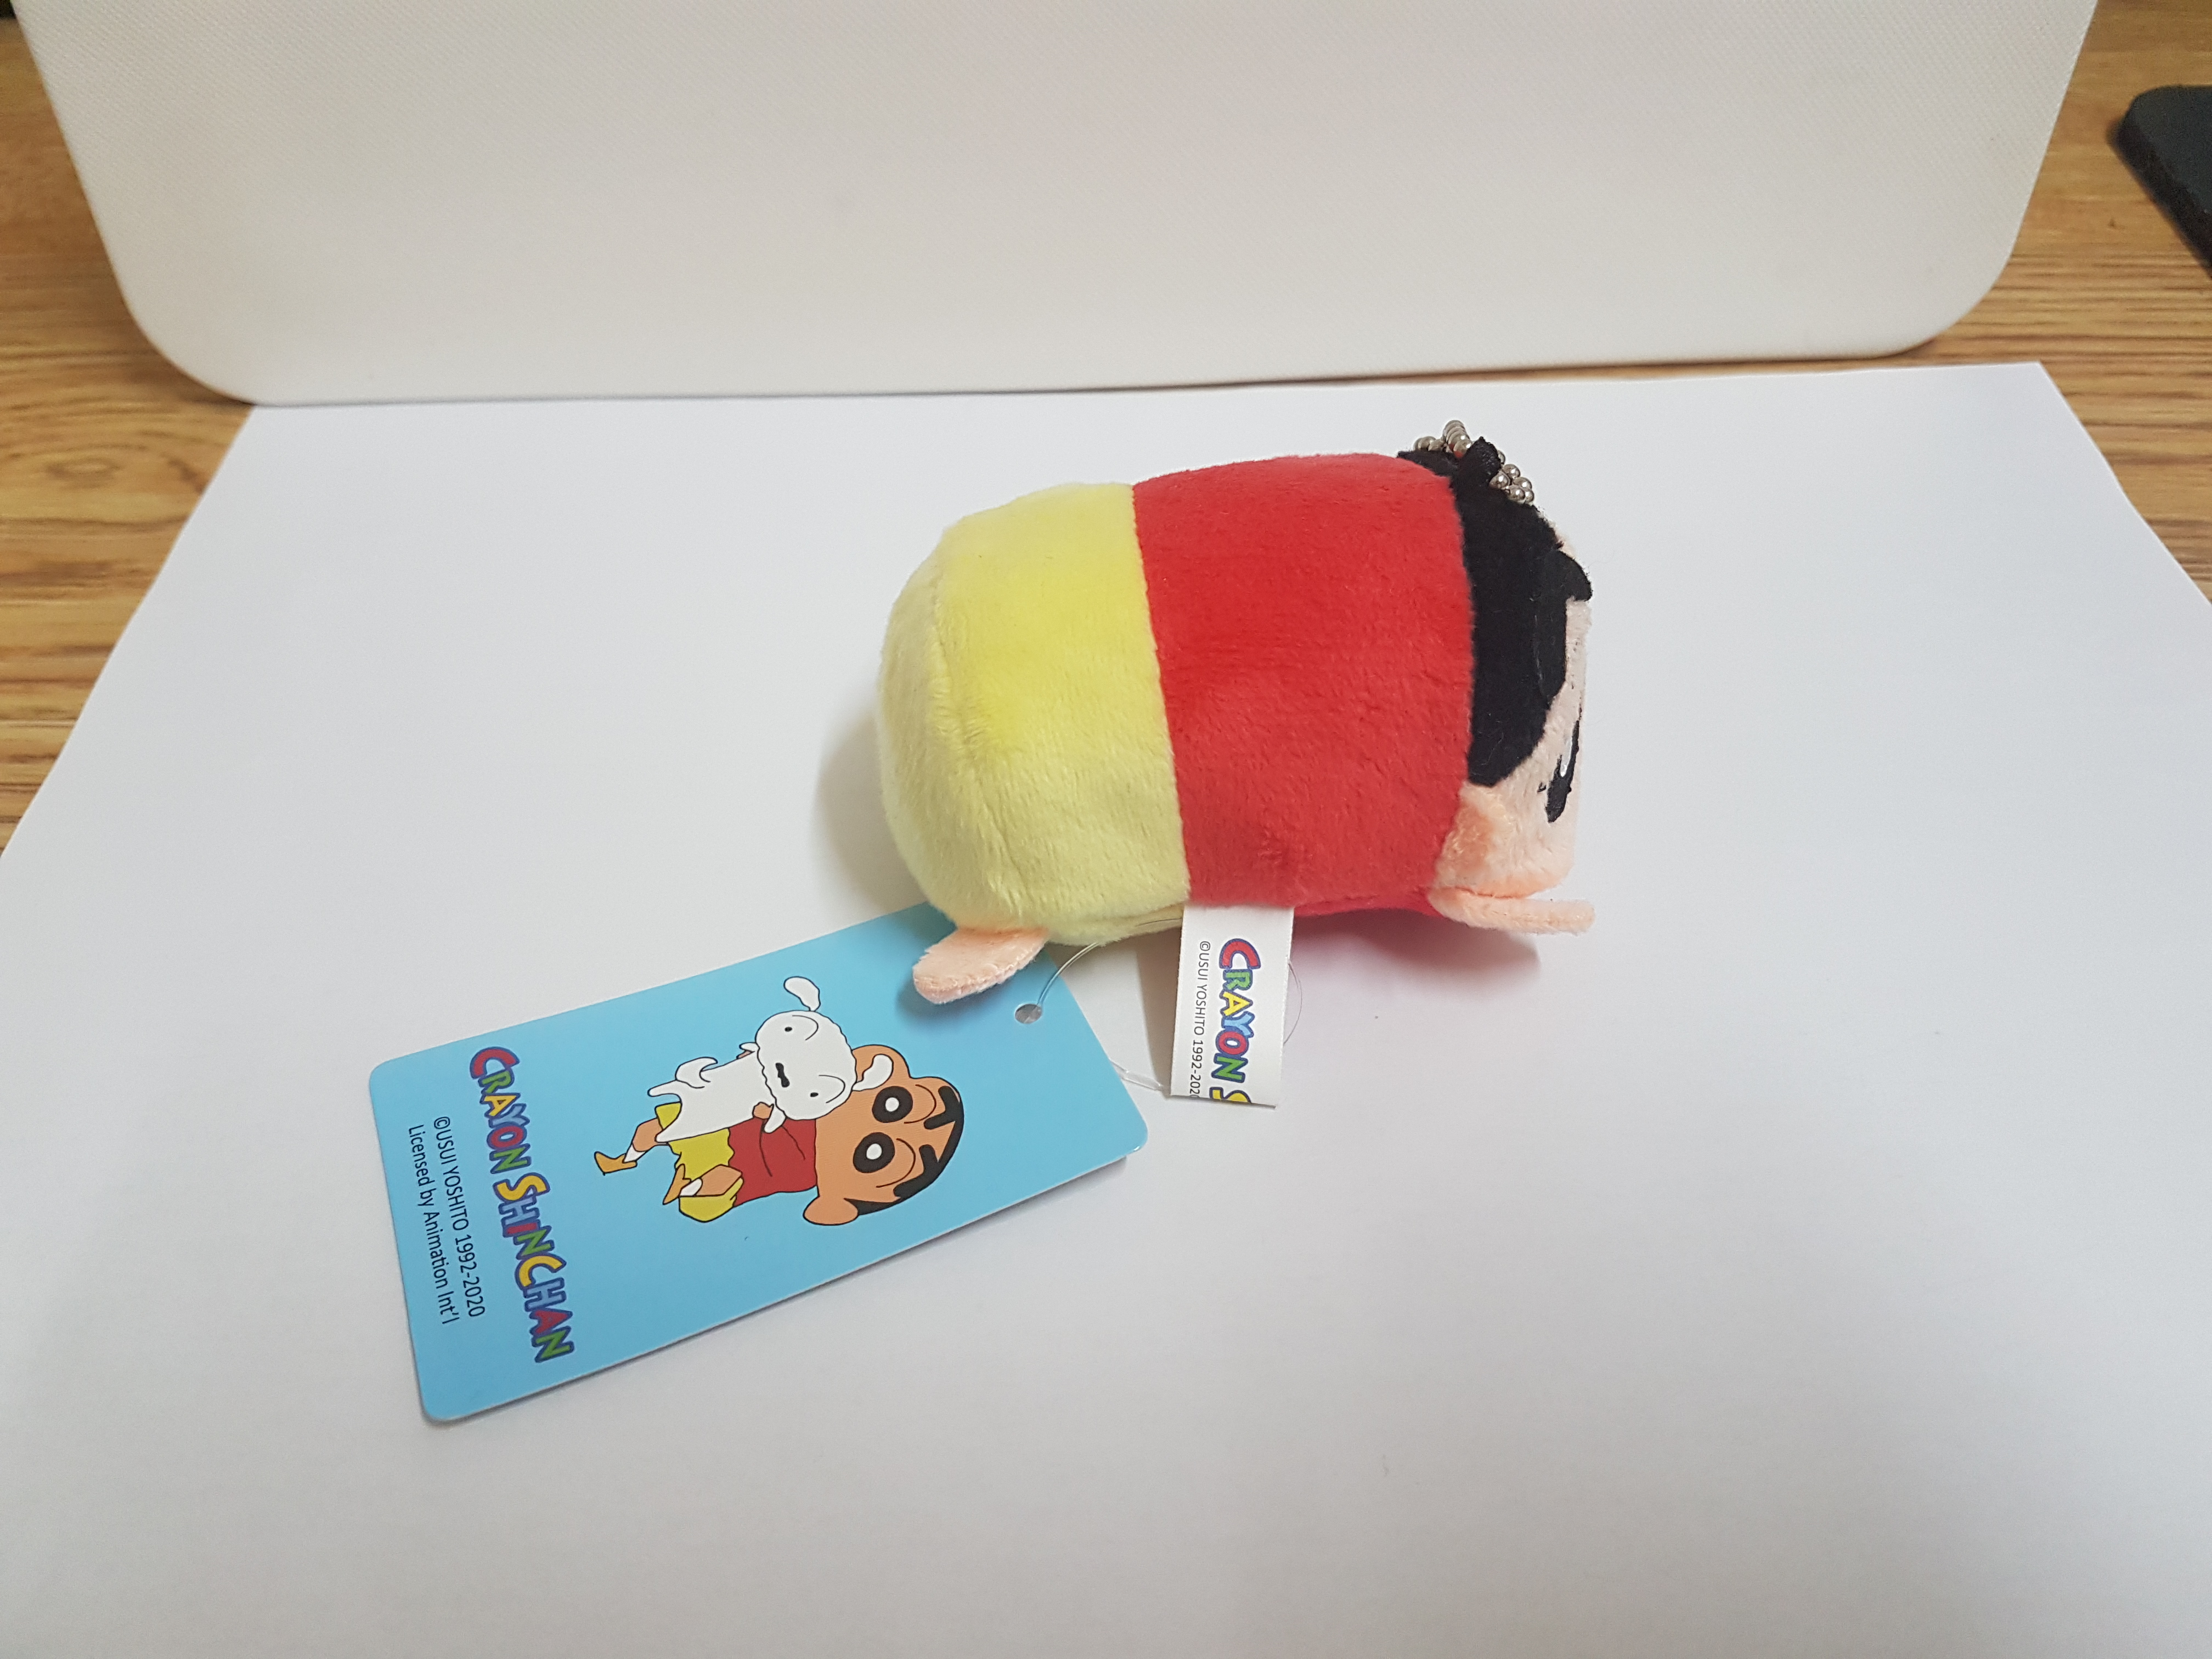stuffed toy: (880, 427, 1599, 1007)
